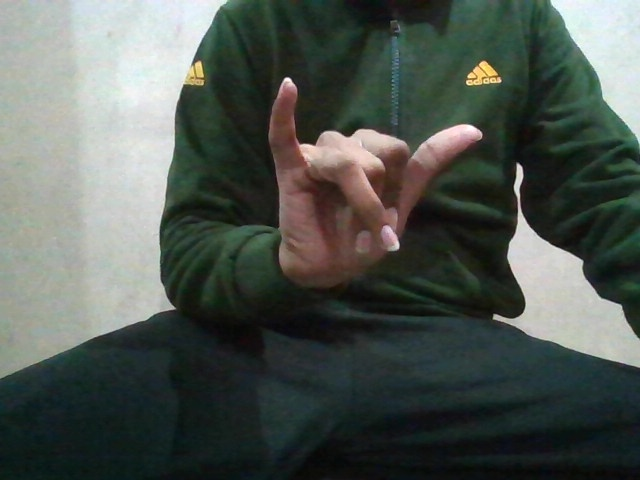Y: (259, 76, 475, 269)
